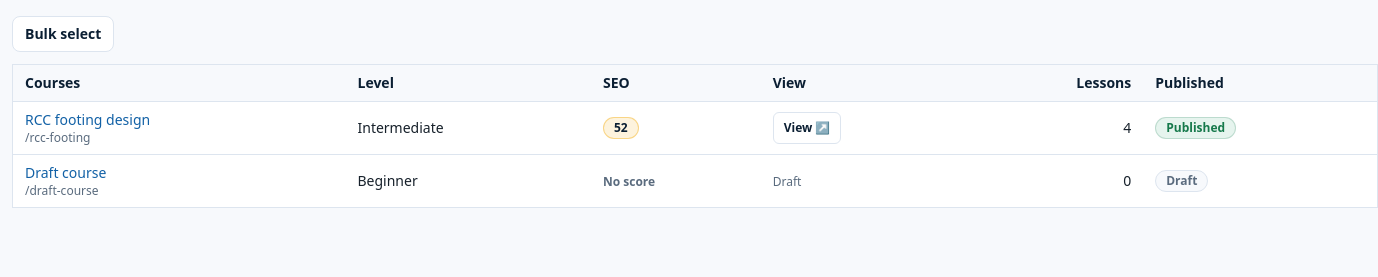
Test case: the courses list › keeps a course the API refuses, and says why
Click the button "Bulk select" at point(63, 34), box [12,16,114,52]
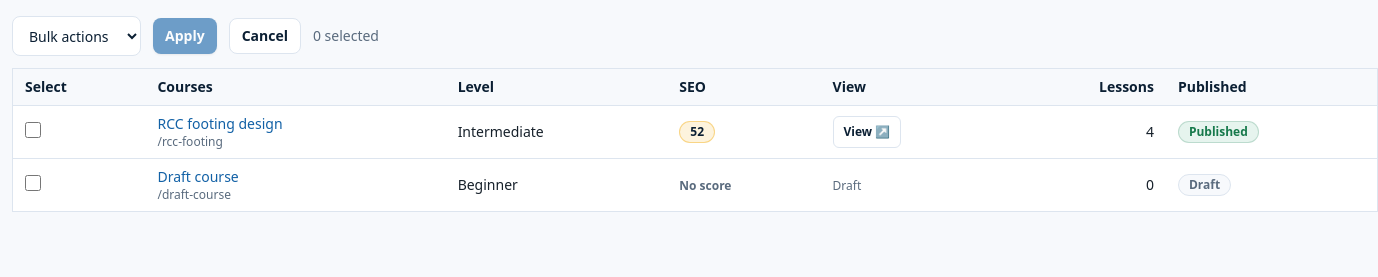
Click the checkbox named "Select: RCC footing design" at point(33, 130), box [25,122,41,138]
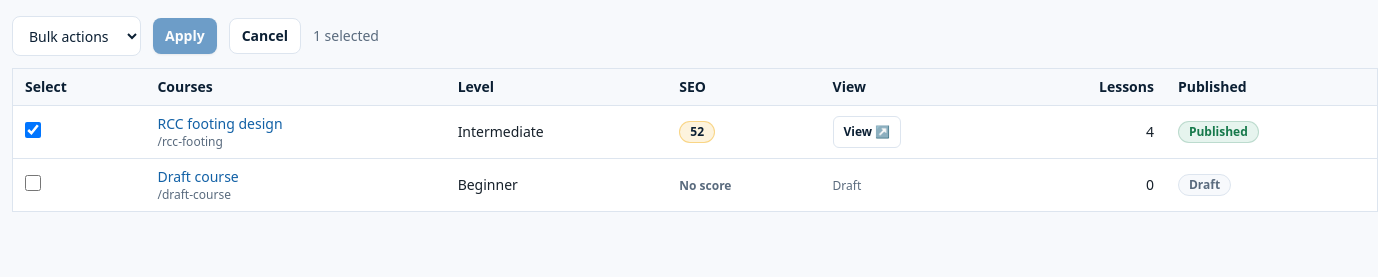
Select "Delete" in the dropdown named "Bulk actions" at point(76, 36), box [12,16,141,56]
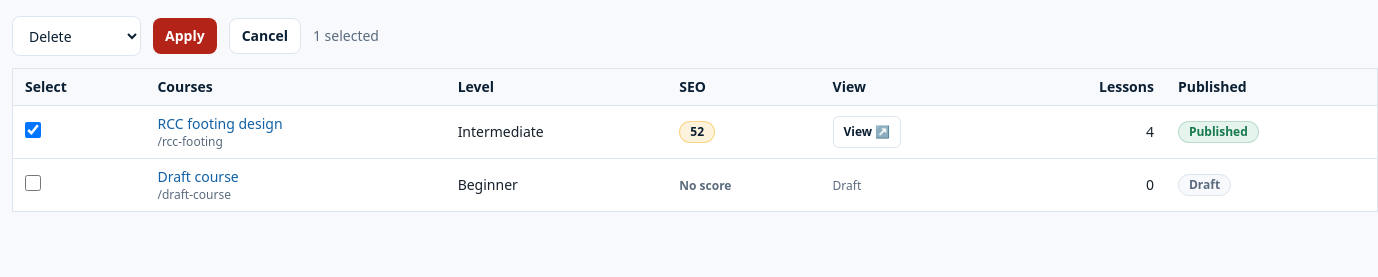
Click the button "Apply" at point(185, 36), box [153,18,217,54]
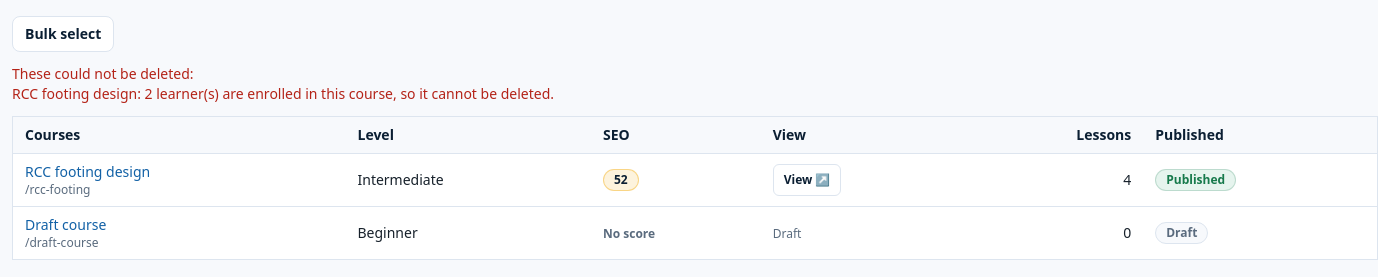
Check: the message shows "RCC footing design", box [12,64,554,103]
Check: the message shows "learner(s) are enrolled", box [12,64,554,103]
